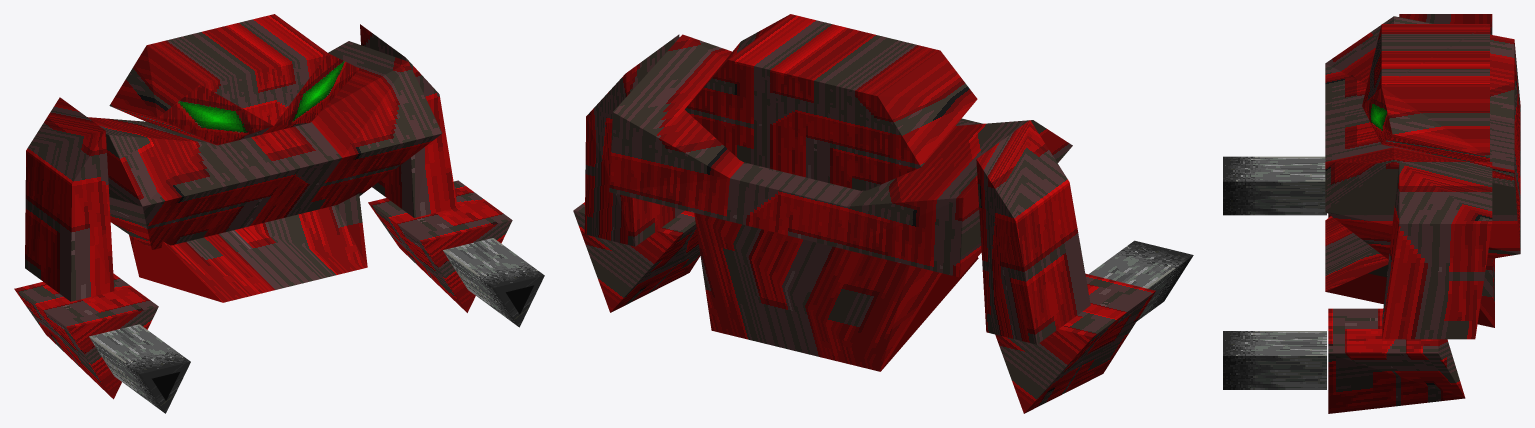
File: Heavy_Hulk.obj
The picture shows the model from 3 angles, left to right: view 1: azimuth 30°, elevation 25°; view 2: azimuth 150°, elevation 25°; view 3: azimuth 270°, elevation 25°; orthographic projection. The views are drawn at different scales.
Visible parts, largest first — view 1: Heavy_Hulk; view 2: Heavy_Hulk; view 3: Heavy_Hulk.
Part boxes in pixels (x1,y1,x2,y2): Heavy_Hulk: (14,14,544,413); Heavy_Hulk: (573,14,1193,413); Heavy_Hulk: (1223,14,1520,413).
Size of the model in its own units: 11 by 6.35 by 6.33.
4 materials, 3 textured.
